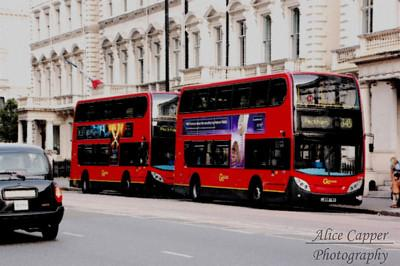bus: (175, 70, 370, 212), (68, 91, 179, 198)
car: (1, 140, 67, 244)
